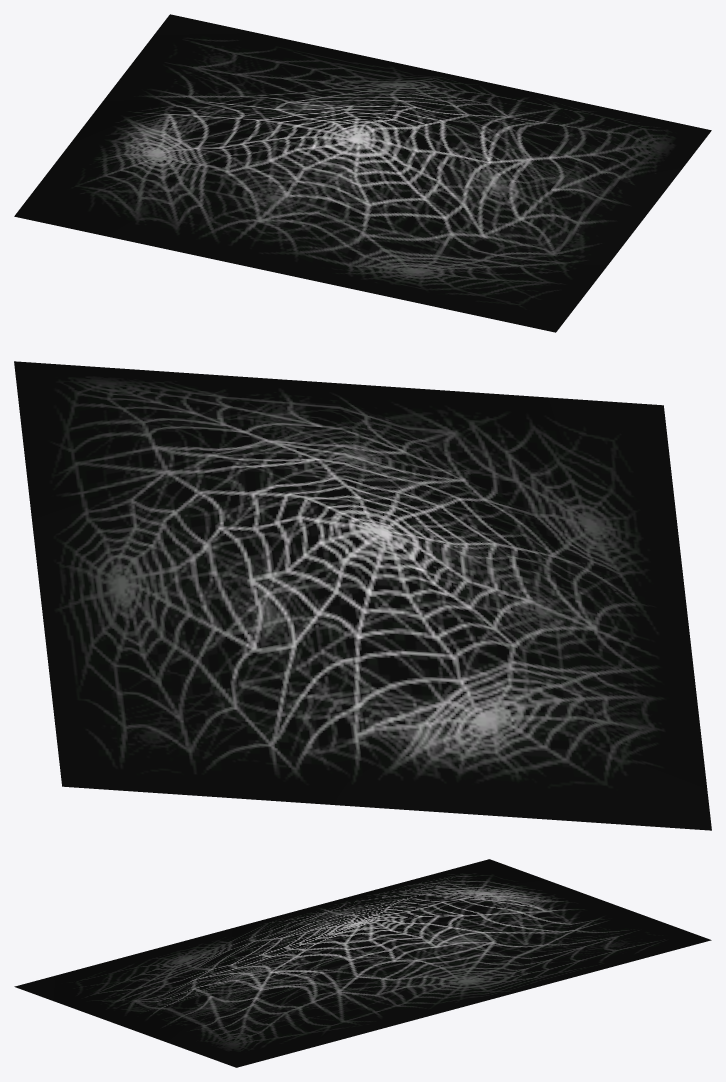
The model's file is MIRKWOOD_PLANE38.fbx.
3 views of the same model, one above another, from view 1: azimuth 30°, elevation 25°; view 2: azimuth 150°, elevation 25°; view 3: azimuth 270°, elevation 25° (orthographic). The views are drawn at different scales.
Visible parts, largest first — view 1: MIRKWOOD_PLANE38; view 2: MIRKWOOD_PLANE38; view 3: MIRKWOOD_PLANE38.
Part boxes in pixels (<box>): MIRKWOOD_PLANE38: <box>14,14,711,332</box>; MIRKWOOD_PLANE38: <box>14,361,711,830</box>; MIRKWOOD_PLANE38: <box>14,859,711,1067</box>.
Size of the model in its own units: 174509 by 20829 by 202494.
Materials: 1 (1 with a texture image).
